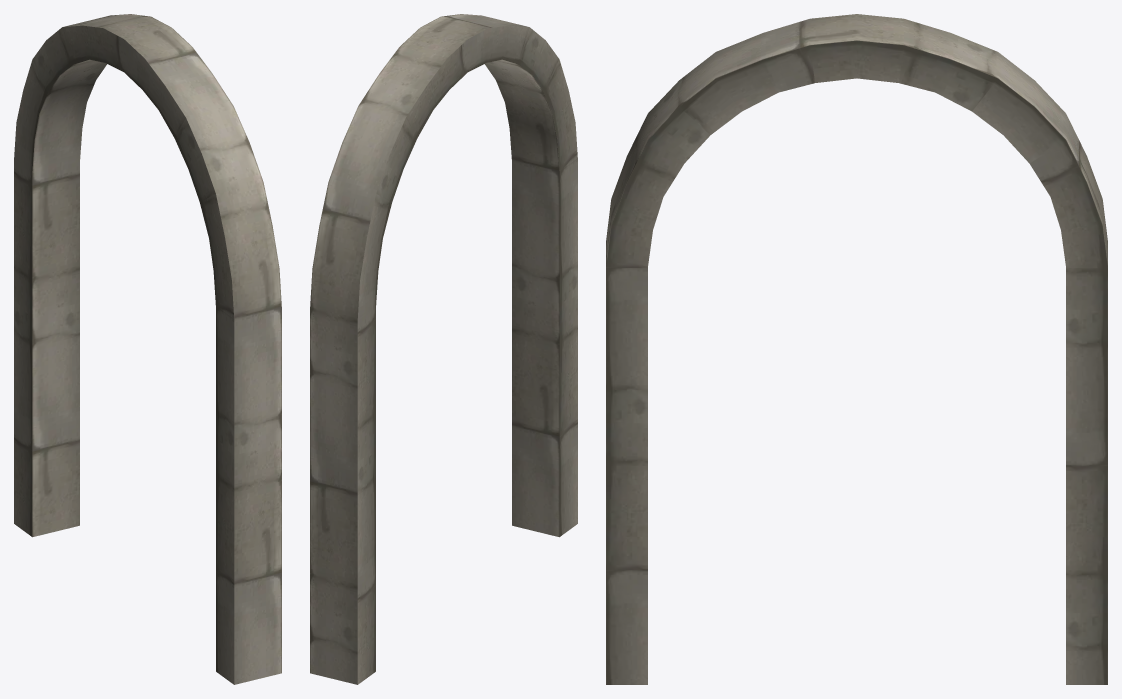
3 renders of one model, left to right at view 1: azimuth 30°, elevation 25°; view 2: azimuth 150°, elevation 25°; view 3: azimuth 270°, elevation 25°, orthographic. The views are drawn at different scales.
Parts seen in each view (by area): view 1: body0_model0_lod0_mesh0; view 2: body0_model0_lod0_mesh0; view 3: body0_model0_lod0_mesh0.
Part boxes in pixels (<box>): body0_model0_lod0_mesh0: <box>14,14,281,684</box>; body0_model0_lod0_mesh0: <box>310,14,577,684</box>; body0_model0_lod0_mesh0: <box>606,14,1107,684</box>.
Bounding box in the file's own units: 12 × 136 × 96.
Materials: 1 (1 with a texture image).
